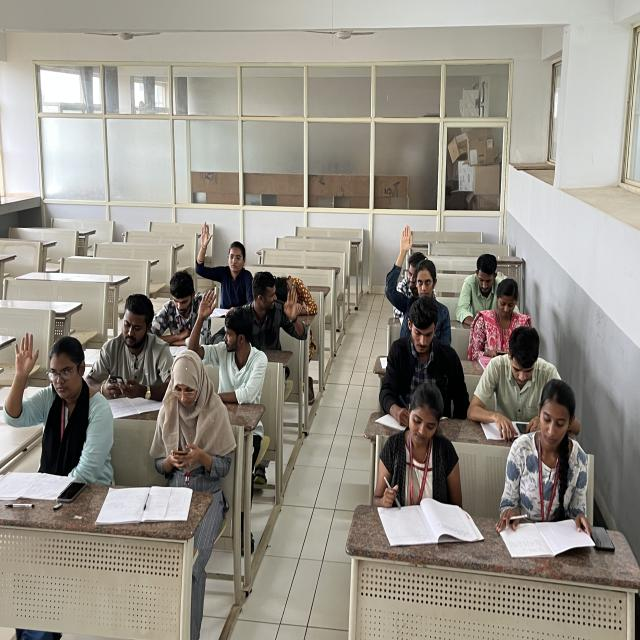Hand Rising: (4, 324, 114, 469), (188, 288, 265, 394), (381, 227, 452, 331), (194, 220, 254, 295)
Reading: (491, 377, 591, 556), (366, 391, 475, 541), (373, 304, 471, 432), (152, 268, 204, 359)
Sleeping: (274, 270, 318, 318)
Using Phone: (147, 344, 237, 494), (87, 288, 180, 420), (470, 323, 556, 452), (470, 277, 530, 365)
